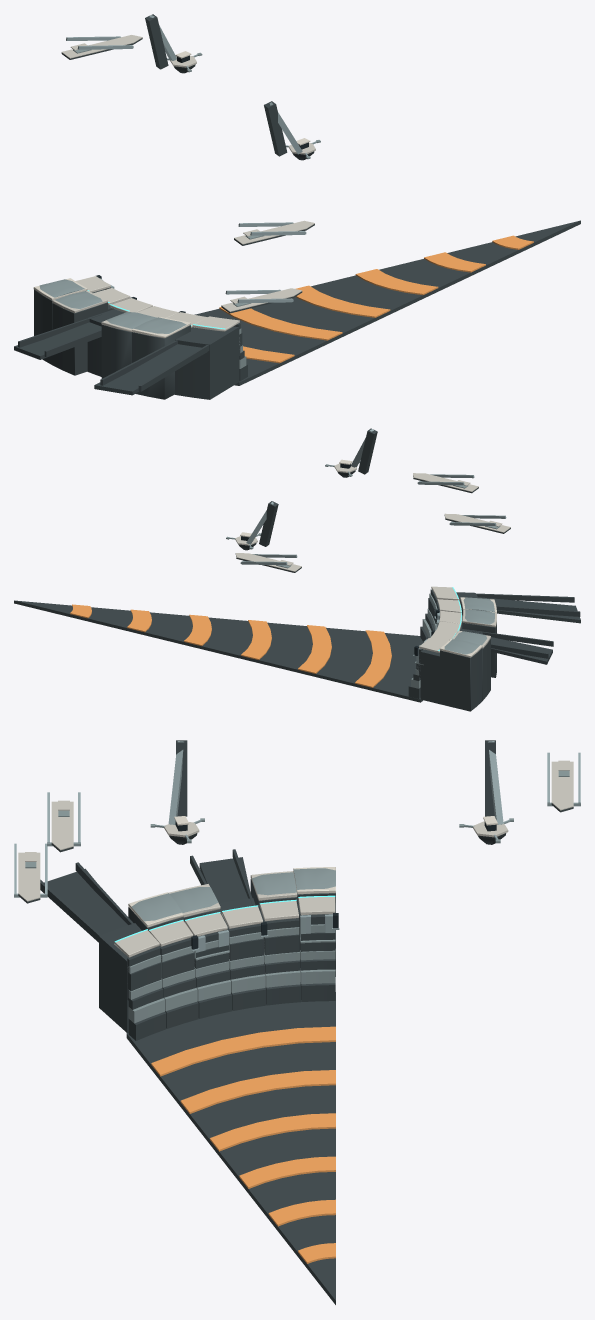
Rendered from Weather_Lung_Sector_06_Structure.glb.
The picture shows the model from 3 angles, top to bottom: view 1: azimuth 30°, elevation 25°; view 2: azimuth 150°, elevation 25°; view 3: azimuth 270°, elevation 25°; orthographic projection. The views are drawn at different scales.
Visible parts, largest first — view 1: Weather_Lung_Sector_06_Structure; view 2: Weather_Lung_Sector_06_Structure; view 3: Weather_Lung_Sector_06_Structure.
Boxes of the visible parts, x1,y1,x2,y2 form: Weather_Lung_Sector_06_Structure: (14, 14, 580, 399); Weather_Lung_Sector_06_Structure: (14, 428, 580, 711); Weather_Lung_Sector_06_Structure: (14, 740, 580, 1304).
Bounding box in the file's own units: 12304 × 4964 × 7710.
